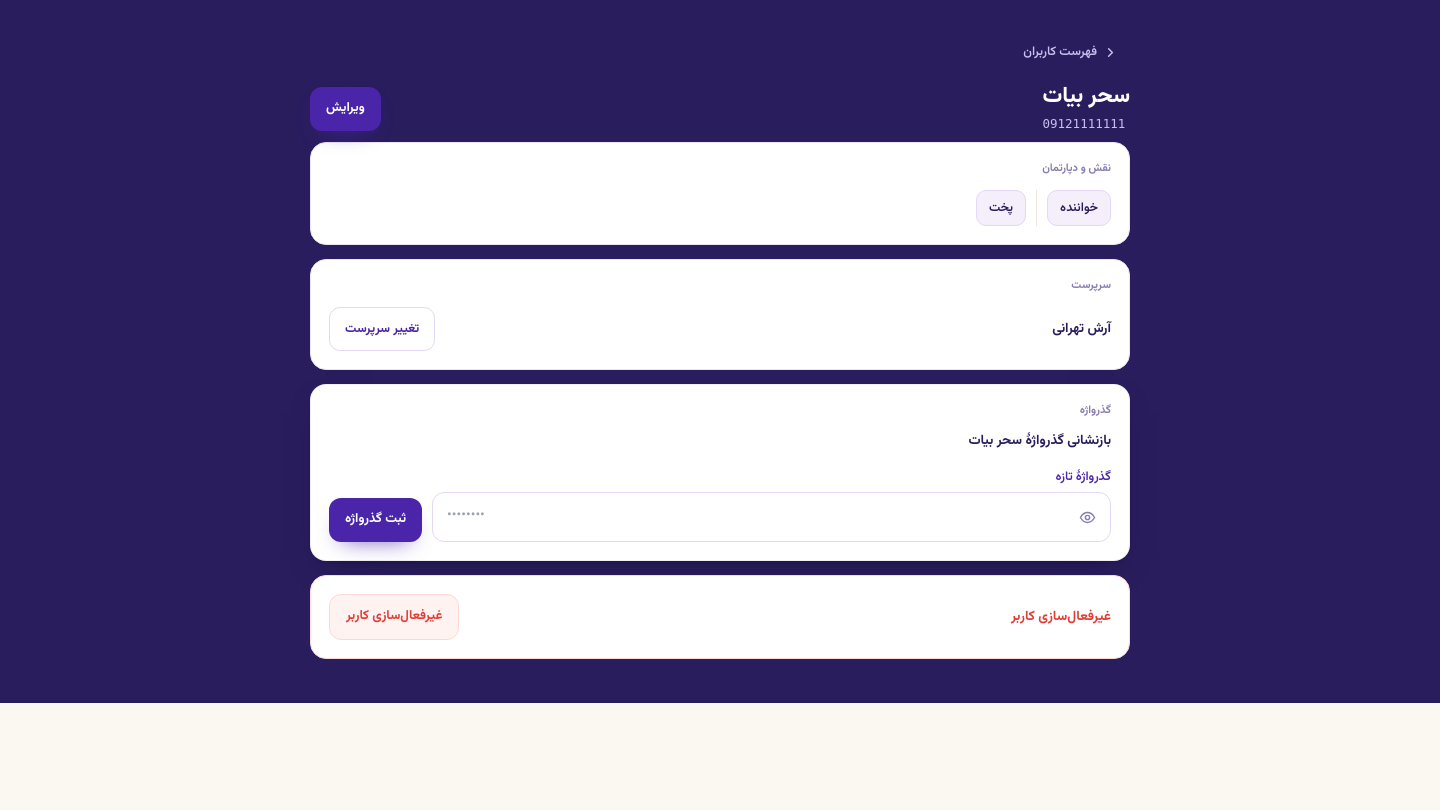
Test: the supervisor picker on the edit form › re-judges the edge when the scopes move, exactly as the server does
The image size is (1440, 810).
Click the button "ویرایش": (345, 109) [310,87,381,131]
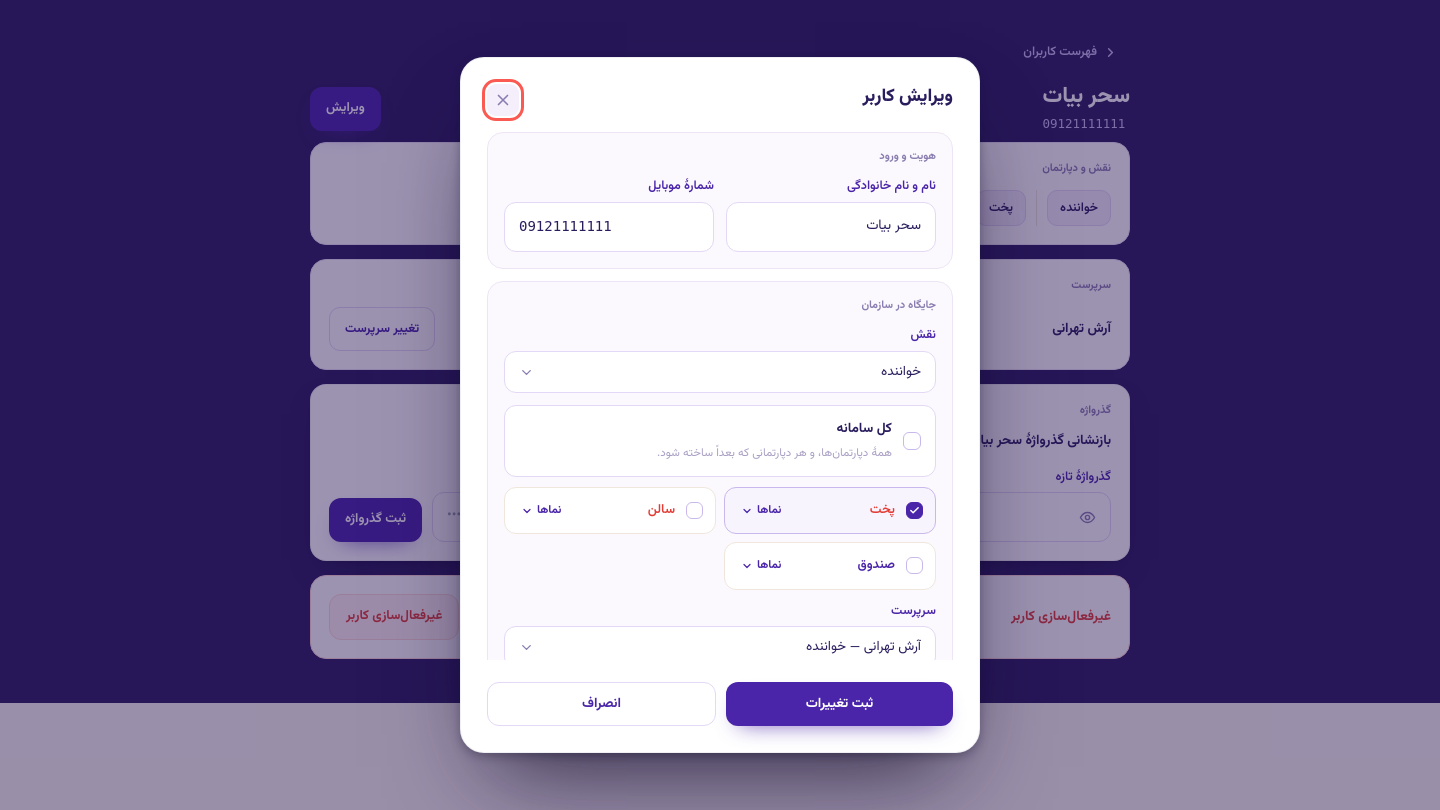
Check: the dialog is shown, box [460,57,980,753]
Check: the checkbox labelled "سالن" is shown, box [504,487,716,534]
Click the checkbox labelled "صندوق": (830, 566) [724,542,936,590]
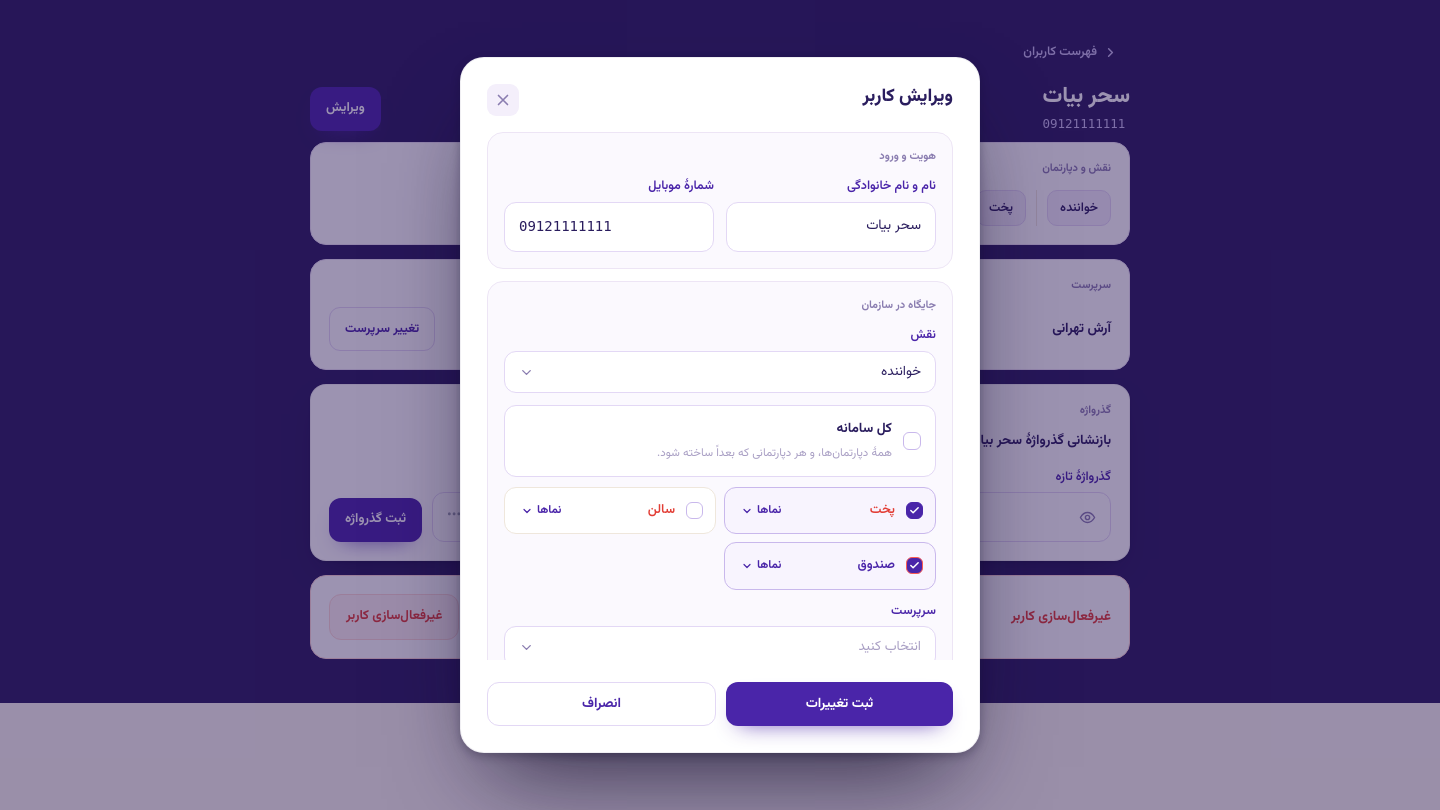
Click the button "ثبت تغییرات": (840, 704) [726,682,953,726]
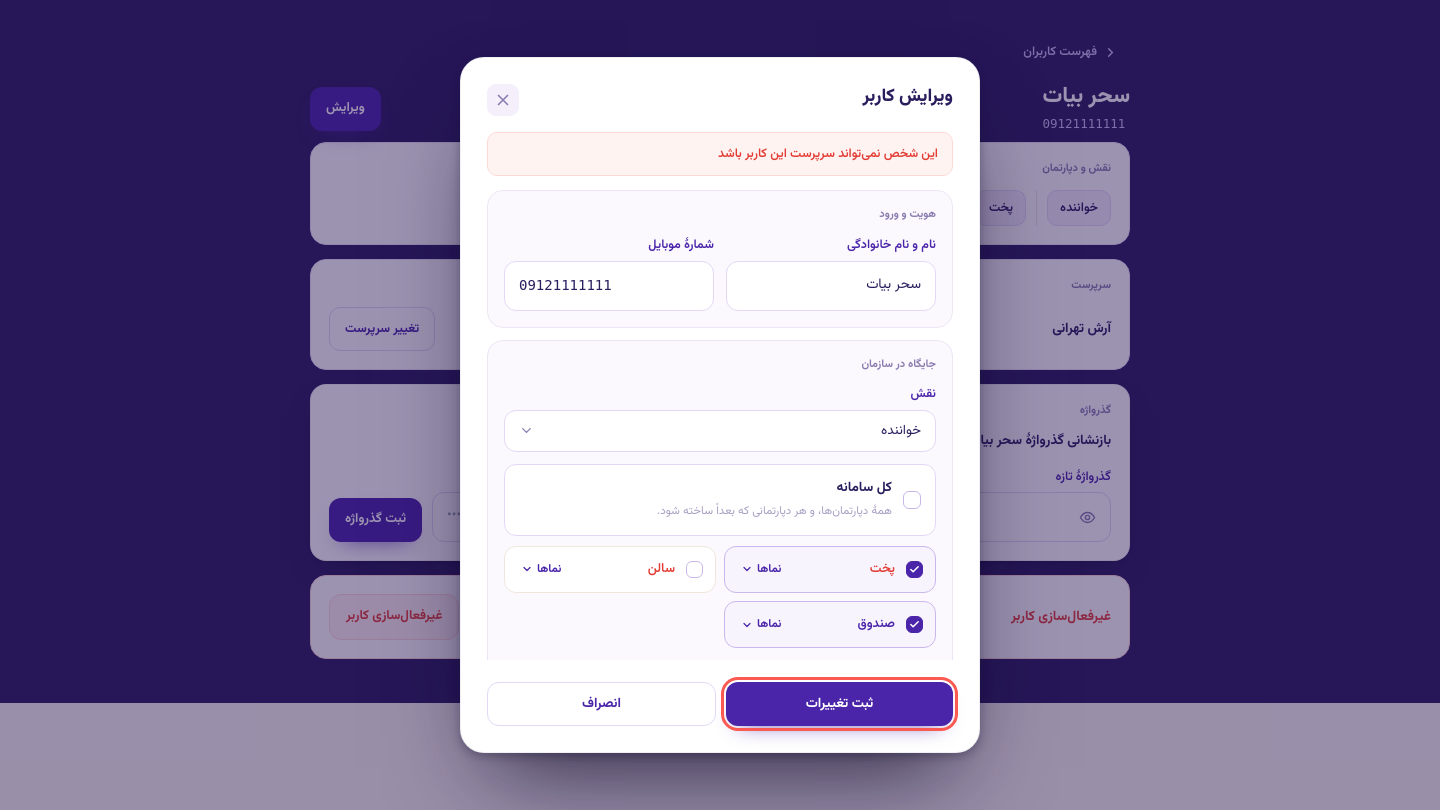
Check: the message reads "این شخص نمی‌تواند سرپرست این کاربر باشد", box [718,144,938,164]
